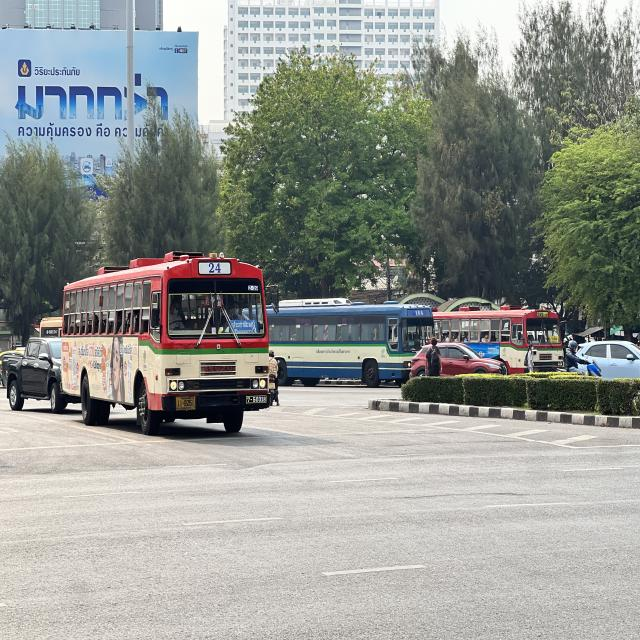BMTA-bus: (62, 253, 280, 435)
Bus-Line-Number: (198, 262, 232, 276)
Destination-Sign-Normal: (230, 319, 258, 333)
